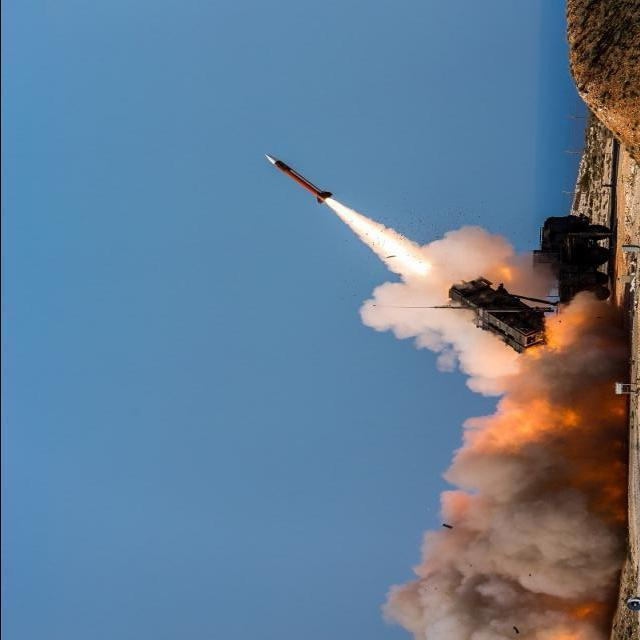missile: (265, 149, 331, 202)
